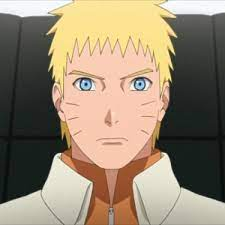Naruto: (51, 4, 170, 169)
